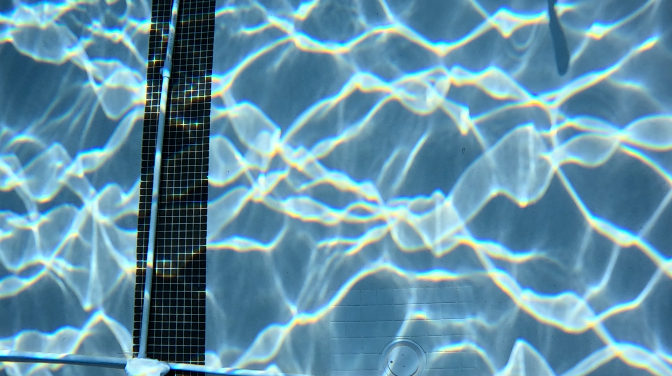sandbag: (127, 357, 169, 375)
